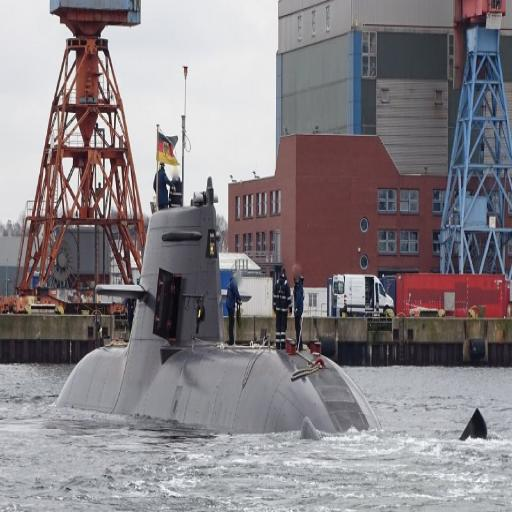submarine: (40, 208, 493, 442)
